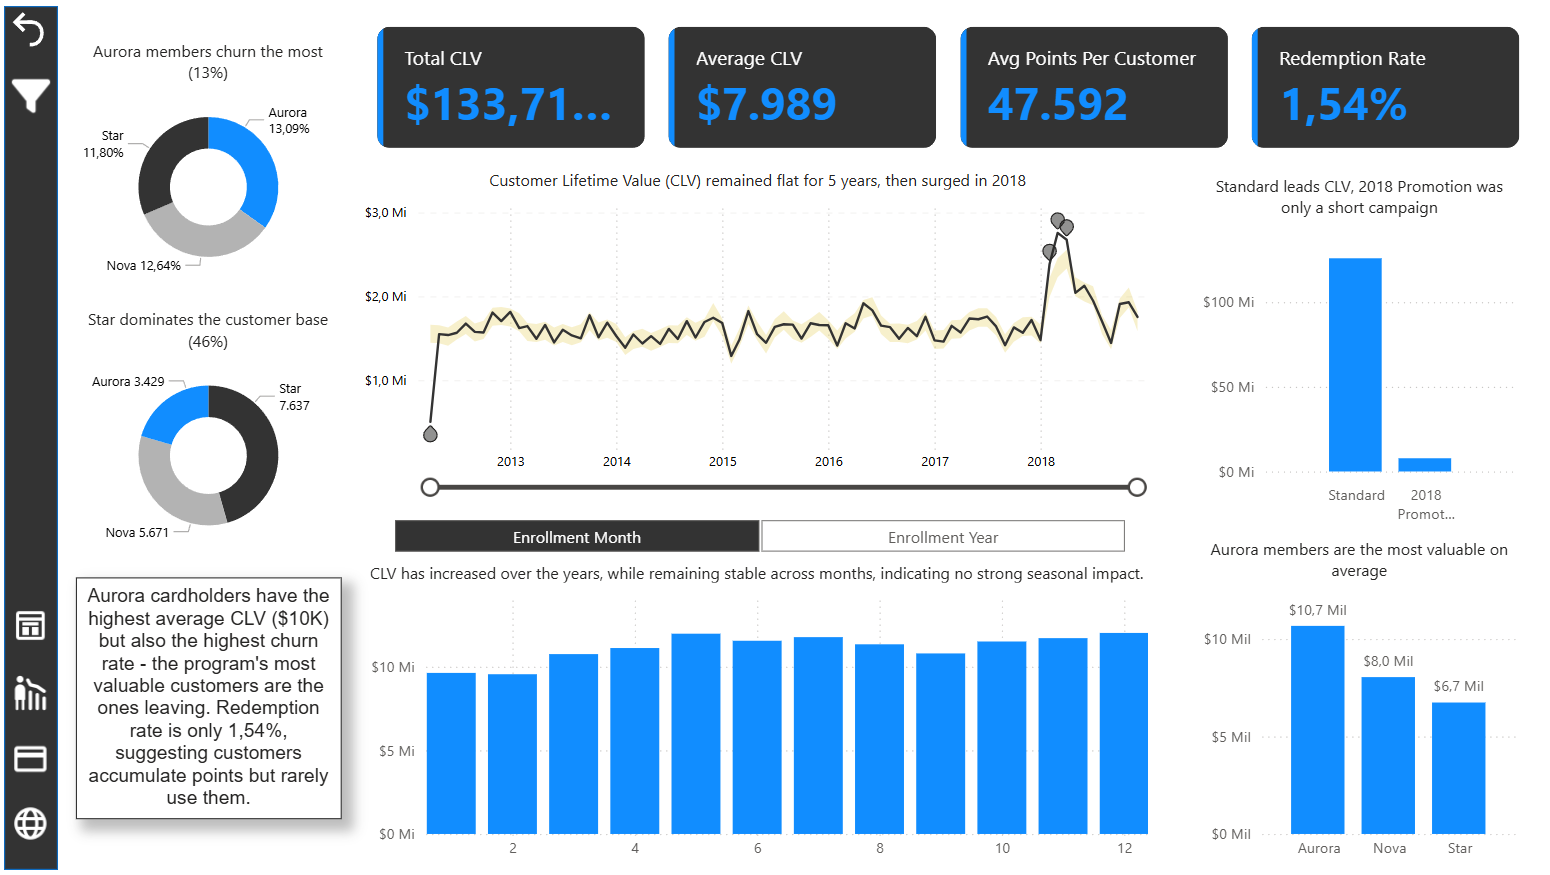

The dashboard page shown, as its layout file describes it:
{"tool":"powerbi","page":{"name":"Loyalty Analysis","canvas":[1280,720],"ordinal":2},"visuals":[{"type":"shape","box":[0,0,45,720],"z":0},{"type":"actionButton","box":[1.4,0,44.3,38.6],"z":1000},{"type":"actionButton","box":[2.9,55,44.3,40],"z":2000},{"type":"cardVisual","fields":{"Data":["Measures DAX.Total CLV (Time)","Measures DAX.Avg CLV (Time)","Measures DAX.Avg Points per Customer","Measures DAX.Redemption Rate"]},"box":[293.4,0,987,135],"z":3000},{"type":"columnChart","title":"Aurora members are the most valuable on average","fields":{"Category":["Customer_Loyalty_History.LoyaltyCard"],"Y":["Measures DAX.Avg CLV (Time)"]},"box":[994.3,442.9,271.4,277.1],"z":4000},{"type":"donutChart","title":"Star dominates the customer base (46%)","fields":{"Category":["Customer_Loyalty_History.LoyaltyCard"],"Y":["Measures DAX.Total Customers (Time)"]},"box":[60,251.4,220,210],"z":5000},{"type":"lineChart","title":"Customer Lifetime Value (CLV) remained flat for 5 years, then surged in 2018","fields":{"Y":["Measures DAX.Total CLV (Time)"],"Category":["Calendar.StartOfMonth"]},"box":[295.5,135.6,666.3,276.9],"z":6000},{"type":"donutChart","title":"Aurora members churn the most (13%)","fields":{"Category":["Customer_Loyalty_History.LoyaltyCard"],"Y":["Measures DAX.Churn Rate (Time)"]},"box":[60,27.1,220,210],"z":7000},{"type":"columnChart","title":"Standard leads CLV, 2018 Promotion was only a short campaign","fields":{"Category":["Customer_Loyalty_History.EnrollmentType"],"Y":["Measures DAX.Total CLV (Time)"]},"box":[994.3,140,271.4,298.6],"z":8000},{"type":"clusteredColumnChart","title":"CLV has increased over the years, while remaining stable across months, indicating no strong seasonal impact.","fields":{"Category":["Customer_Loyalty_History.EnrollmentMonth"],"Y":["Measures DAX.Total CLV (Time)"]},"box":[300,462.9,658.6,257.1],"z":10000},{"type":"slicer","fields":{"Values":["Parameter 3.Parameter"]},"box":[300.1,421.8,658.2,39.4],"z":11000},{"type":"textbox","box":[60,475.7,221,201.4],"z":12000},{"type":"actionButton","box":[0,496.7,44.2,40],"z":13000},{"type":"actionButton","box":[0,551.9,44.4,40],"z":14000},{"type":"actionButton","box":[0,607.3,44.4,40],"z":15000},{"type":"actionButton","box":[0,661.4,44.3,40],"z":16000}]}

Visuals, with their boxes on the page's 1280x720 design canvas (x1, y1, x2, y2). These are canvas units, not pixel positions in the 1550x875 screenshot, which may show the page scaled, cropped or inside an application window:
shape: select_region(0, 0, 45, 720)
actionButton: select_region(1, 0, 46, 39)
actionButton: select_region(3, 55, 47, 95)
cardVisual - Measures DAX.Total CLV (Time) x Measures DAX.Avg CLV (Time): select_region(293, 0, 1280, 135)
"Aurora members are the most valuable on average" columnChart: select_region(994, 443, 1266, 720)
"Star dominates the customer base (46%)" donutChart: select_region(60, 251, 280, 461)
"Customer Lifetime Value (CLV) remained flat for 5 years, then surged in 2018" lineChart: select_region(296, 136, 962, 412)
"Aurora members churn the most (13%)" donutChart: select_region(60, 27, 280, 237)
"Standard leads CLV, 2018 Promotion was only a short campaign" columnChart: select_region(994, 140, 1266, 439)
"CLV has increased over the years, while remaining stable across months, indicating no strong seasonal impact." clusteredColumnChart: select_region(300, 463, 959, 720)
slicer - Parameter 3.Parameter: select_region(300, 422, 958, 461)
textbox: select_region(60, 476, 281, 677)
actionButton: select_region(0, 497, 44, 537)
actionButton: select_region(0, 552, 44, 592)
actionButton: select_region(0, 607, 44, 647)
actionButton: select_region(0, 661, 44, 701)
